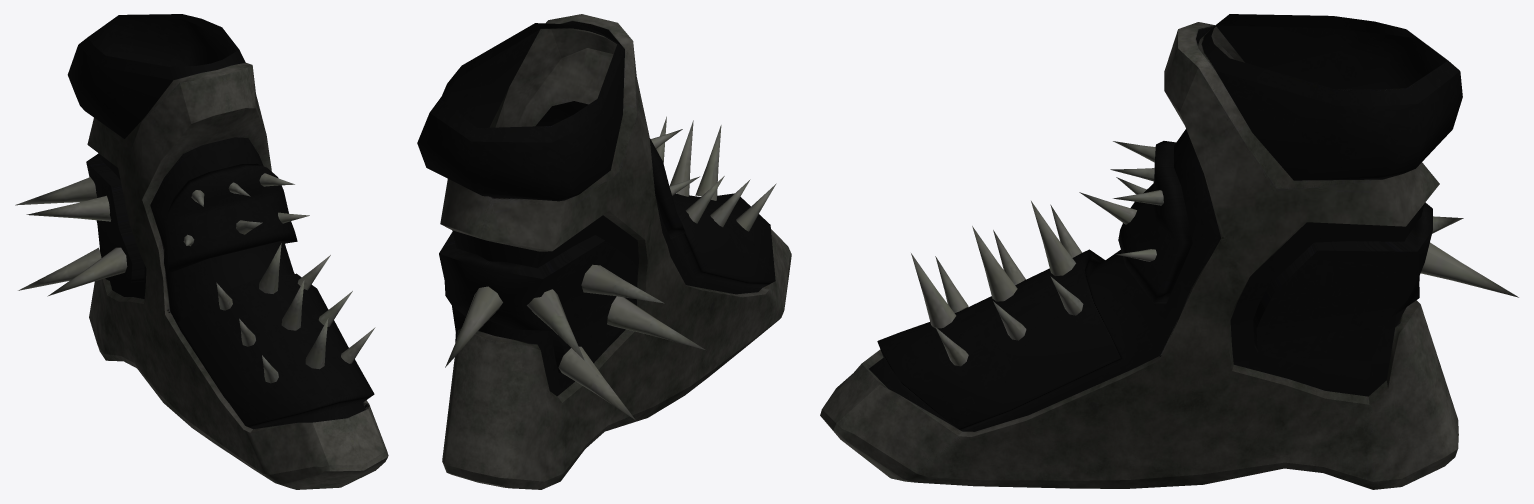
The model's file is studded_leather_boots.glb.
The picture shows the model from 3 angles, left to right: view 1: azimuth 30°, elevation 25°; view 2: azimuth 150°, elevation 25°; view 3: azimuth 270°, elevation 25°; orthographic projection. The views are drawn at different scales.
Visible parts, largest first — view 1: studded_leather_boots; view 2: studded_leather_boots; view 3: studded_leather_boots.
Boxes of the visible parts, x1,y1,x2,y2 form: studded_leather_boots: (15, 14, 388, 489); studded_leather_boots: (417, 14, 791, 489); studded_leather_boots: (820, 14, 1518, 489).
Bounding box in the file's own units: 0.1271 × 0.1993 × 0.2943.
1 material, 1 textured.
